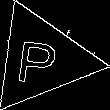P_N: (18, 32, 65, 86)
